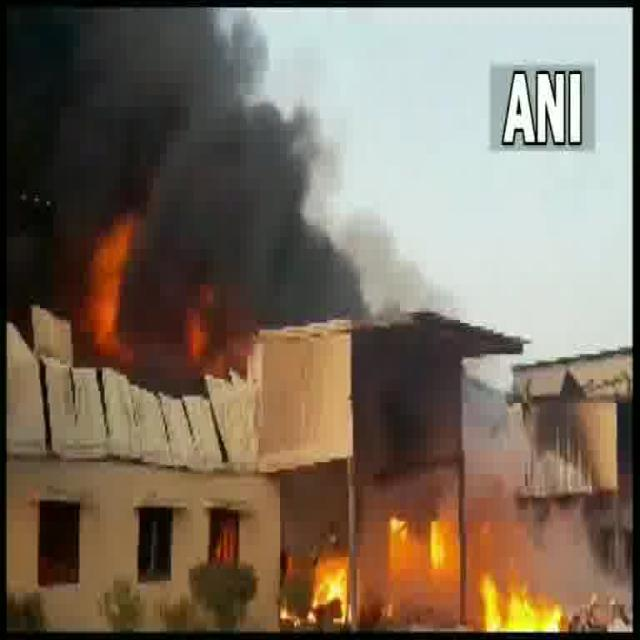Fire: (304, 536, 572, 632)
Smoke: (5, 15, 334, 326)
